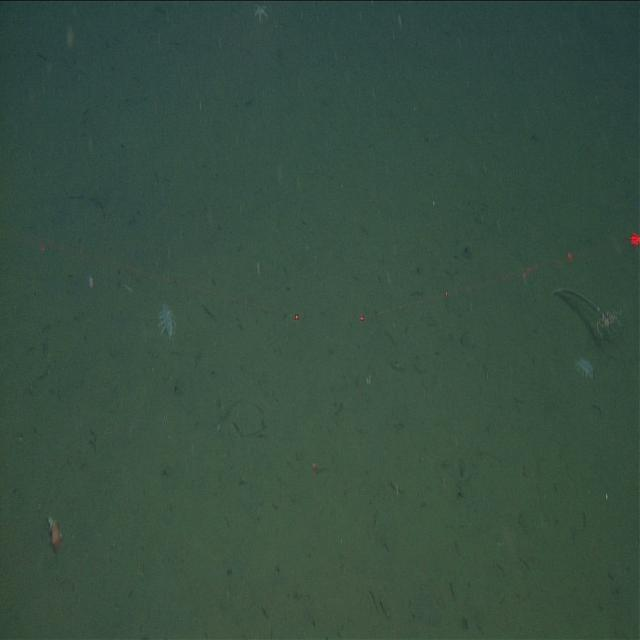Brittle Star: (594, 306, 621, 336)
